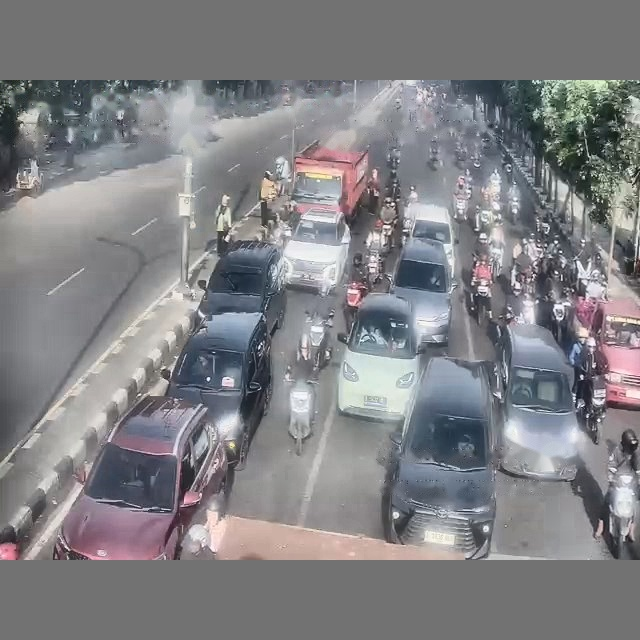Mobil: (53, 396, 227, 559), (382, 357, 499, 558), (161, 312, 272, 469), (496, 324, 580, 480), (337, 293, 423, 420), (197, 240, 286, 333), (388, 239, 456, 345), (284, 209, 350, 293), (410, 202, 456, 274)
Motor: (285, 367, 315, 455), (608, 472, 637, 558), (579, 375, 605, 444), (305, 310, 334, 370), (549, 287, 572, 344), (345, 280, 368, 332), (472, 279, 491, 325), (366, 250, 383, 289), (489, 244, 503, 280), (521, 291, 536, 324), (454, 196, 467, 222), (509, 197, 520, 224)
Truk: (216, 516, 463, 559), (573, 298, 639, 407), (291, 140, 368, 223)
